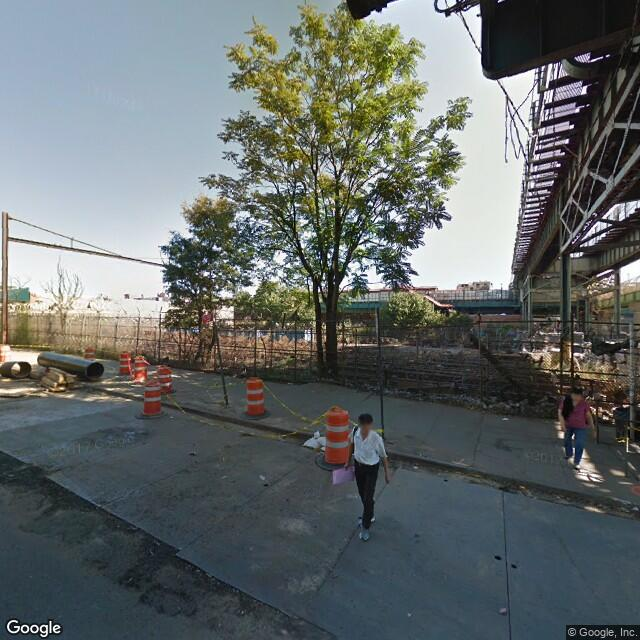litter: (303, 432, 326, 452), (409, 463, 425, 473), (498, 413, 511, 425), (255, 473, 270, 483), (496, 608, 509, 614), (165, 415, 174, 418)
